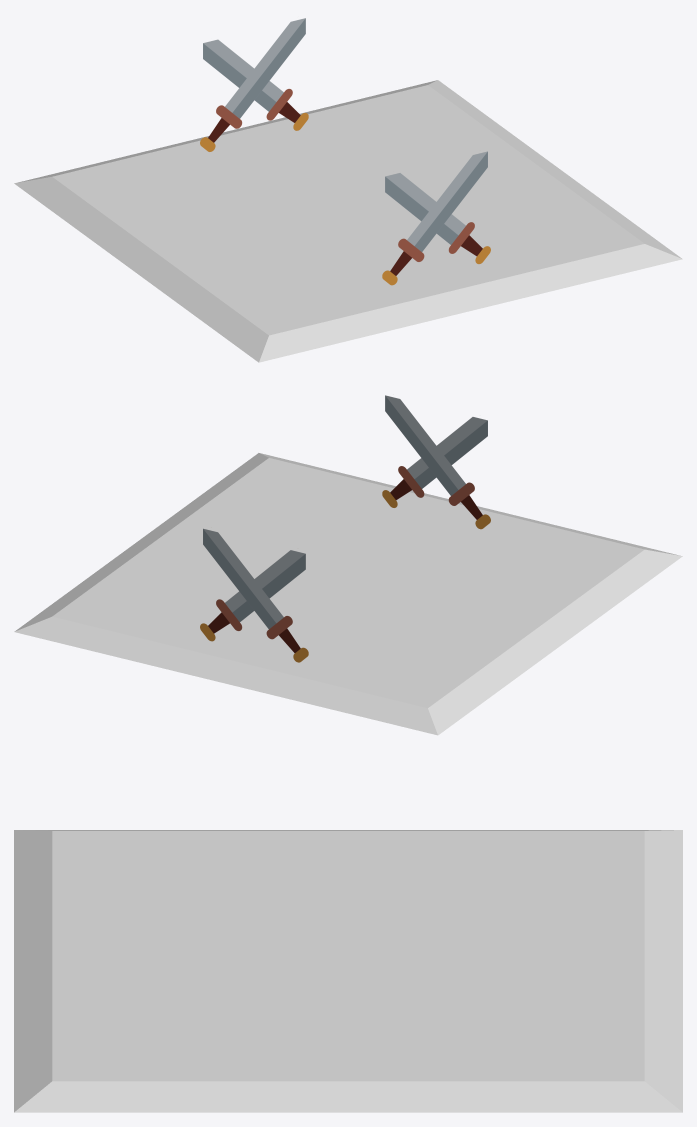
Rendered from EmojiBattleGround.glb.
3 views of the same model, one above another, from view 1: azimuth 30°, elevation 25°; view 2: azimuth 150°, elevation 25°; view 3: azimuth 270°, elevation 25° (orthographic). The views are drawn at different scales.
Visible parts, largest first — view 1: Ground, EmojiA, EmojiB; view 2: Ground, EmojiA, EmojiB; view 3: Ground.
Boxes of the visible parts, x1,y1,x2,y2 form: Ground: [14, 80, 682, 362]; EmojiA: [382, 151, 490, 285]; EmojiB: [200, 18, 308, 151]; Ground: [14, 453, 682, 735]; EmojiA: [382, 395, 490, 529]; EmojiB: [200, 528, 308, 662]; Ground: [14, 830, 682, 1112].
Bounding box in the file's own units: 3.9 × 1.1 × 3.9.
2 materials, 1 textured.
